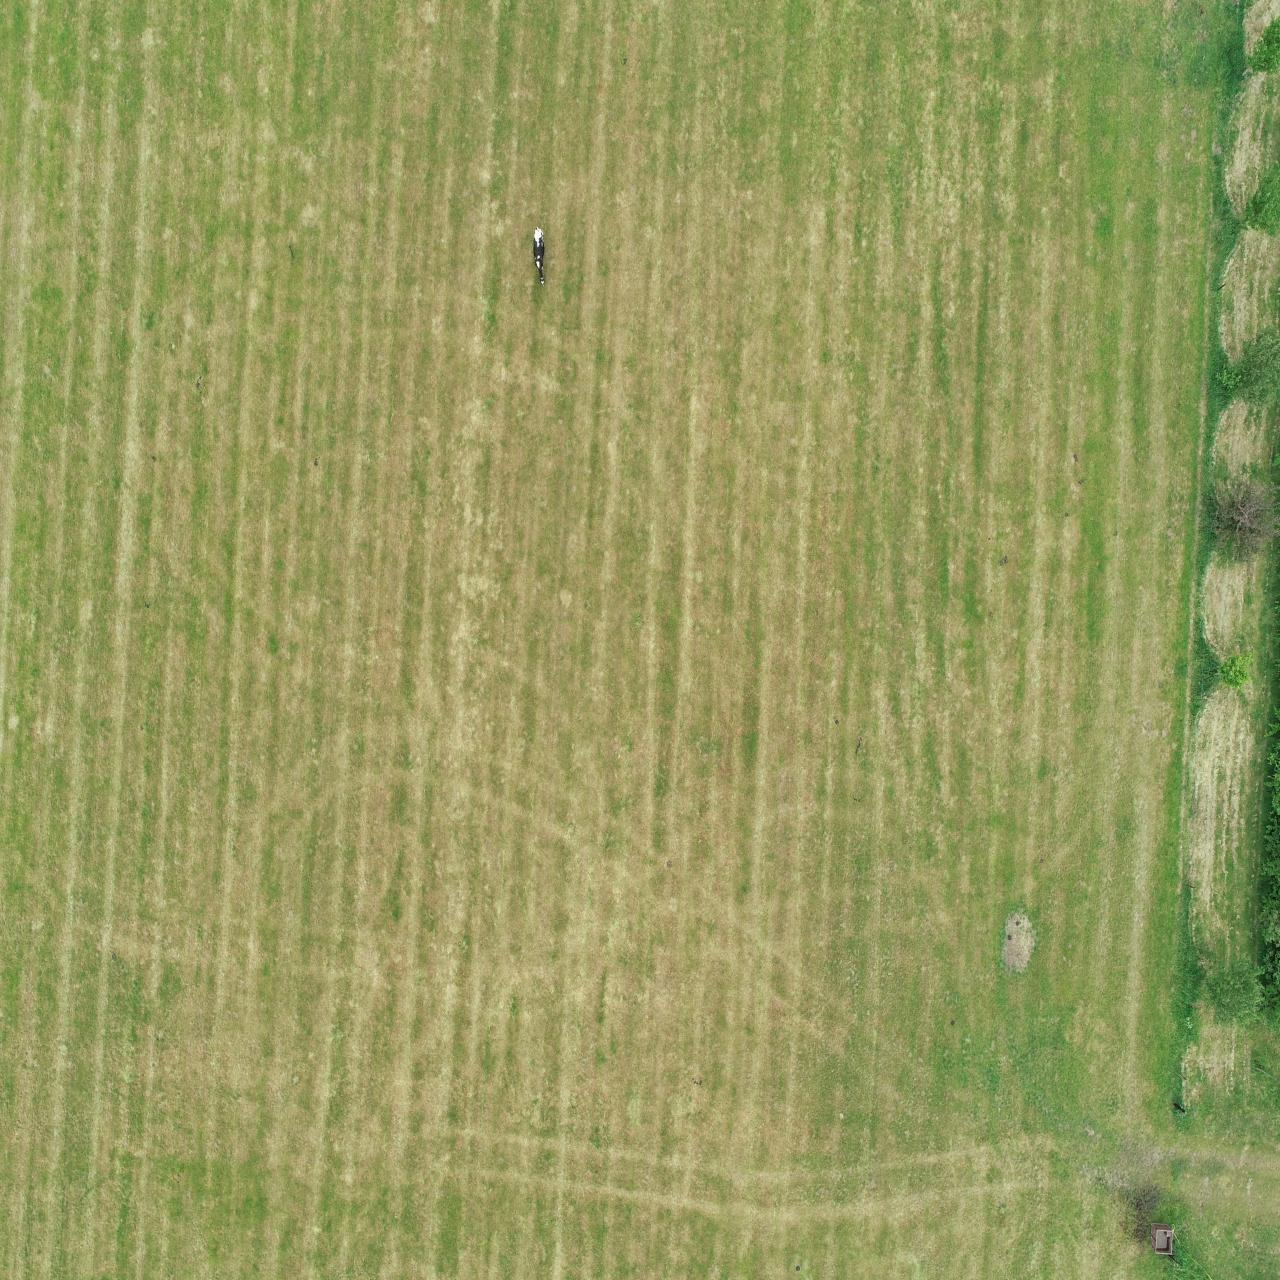cow: (532, 224, 546, 287)
